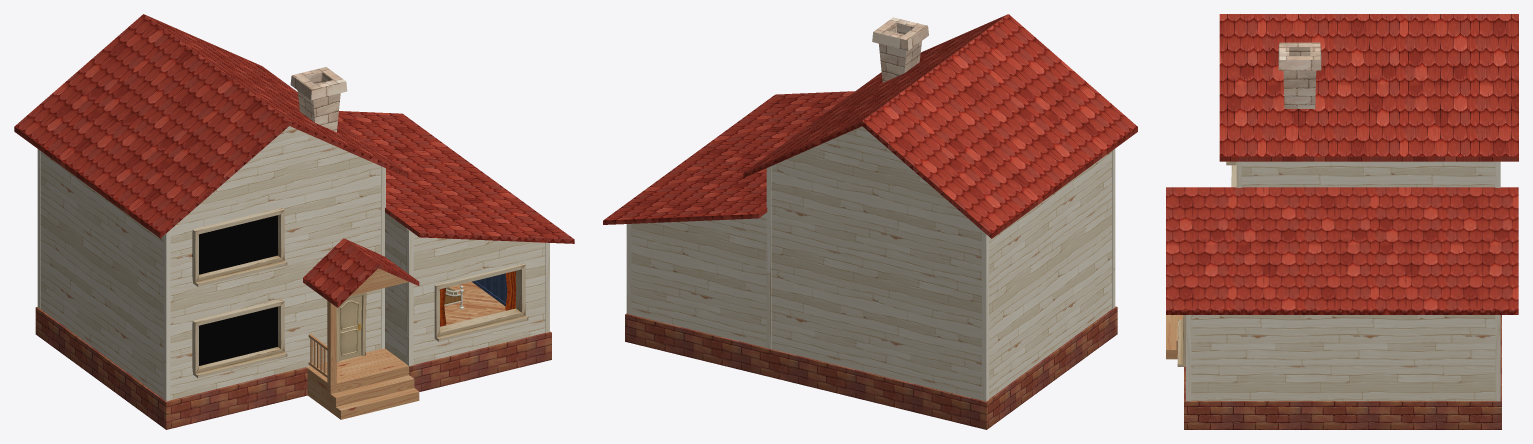
The model's file is project-one-transformed.glb.
3 views of the same model, side by side, from view 1: azimuth 30°, elevation 25°; view 2: azimuth 150°, elevation 25°; view 3: azimuth 270°, elevation 25° (orthographic). The views are drawn at different scales.
Parts seen in each view (by area): view 1: Object_7, Object_8, Object_6, Object_25, Object_9, Object_20, Object_4, Object_12, Object_5, Object_10, Object_31; view 2: Object_7, Object_8, Object_6, Object_4; view 3: Object_8, Object_7, Object_6, Object_4, Object_25, Object_9.
Part boxes in pixels (left/top/right/bottom): Object_7: left=37, top=126, right=549, bottom=401; Object_8: left=14, top=14, right=574, bottom=307; Object_6: left=35, top=307, right=551, bottom=429; Object_25: left=192, top=207, right=528, bottom=377; Object_9: left=306, top=268, right=419, bottom=419; Object_20: left=192, top=215, right=277, bottom=365; Object_4: left=290, top=67, right=347, bottom=132; Object_12: left=336, top=292, right=366, bottom=362; Object_5: left=444, top=281, right=505, bottom=325; Object_10: left=472, top=273, right=507, bottom=306; Object_31: left=440, top=271, right=516, bottom=326; Object_7: left=626, top=126, right=1115, bottom=401; Object_8: left=603, top=14, right=1137, bottom=238; Object_6: left=625, top=306, right=1117, bottom=429; Object_4: left=872, top=17, right=928, bottom=82; Object_8: left=1166, top=14, right=1518, bottom=314; Object_7: left=1186, top=161, right=1500, bottom=401; Object_6: left=1184, top=315, right=1501, bottom=429; Object_4: left=1278, top=42, right=1321, bottom=108; Object_25: left=1177, top=161, right=1236, bottom=366; Object_9: left=1166, top=315, right=1182, bottom=359.
Size of the model in its own units: 35.45 by 24.98 by 27.23.
Materials: 15 (13 with a texture image).
